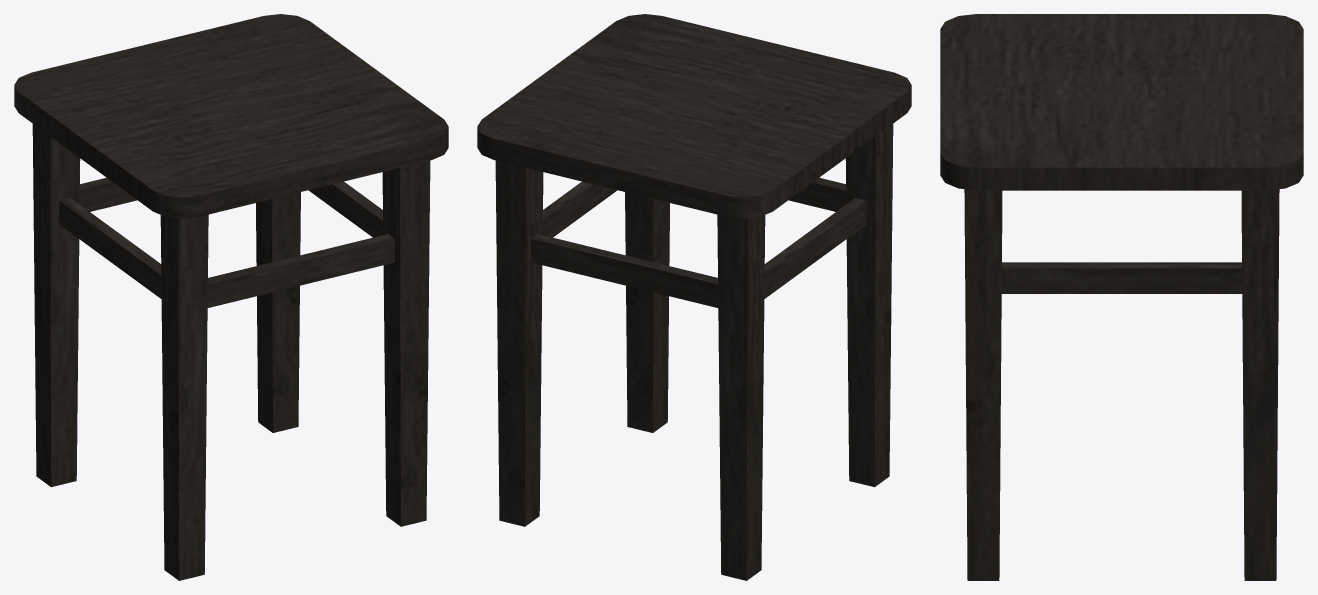
Rendered from chair_mp_2.obj.
The picture shows the model from 3 angles, left to right: view 1: azimuth 30°, elevation 25°; view 2: azimuth 150°, elevation 25°; view 3: azimuth 270°, elevation 25°; orthographic projection. The views are drawn at different scales.
Parts seen in each view (by area): view 1: chair_mp_2; view 2: chair_mp_2; view 3: chair_mp_2.
Part boxes in pixels (<box>): chair_mp_2: <box>14,14,448,580</box>; chair_mp_2: <box>477,14,911,580</box>; chair_mp_2: <box>940,14,1303,580</box>.
Bounding box in the file's own units: 0.4607 × 0.594 × 0.4607.
